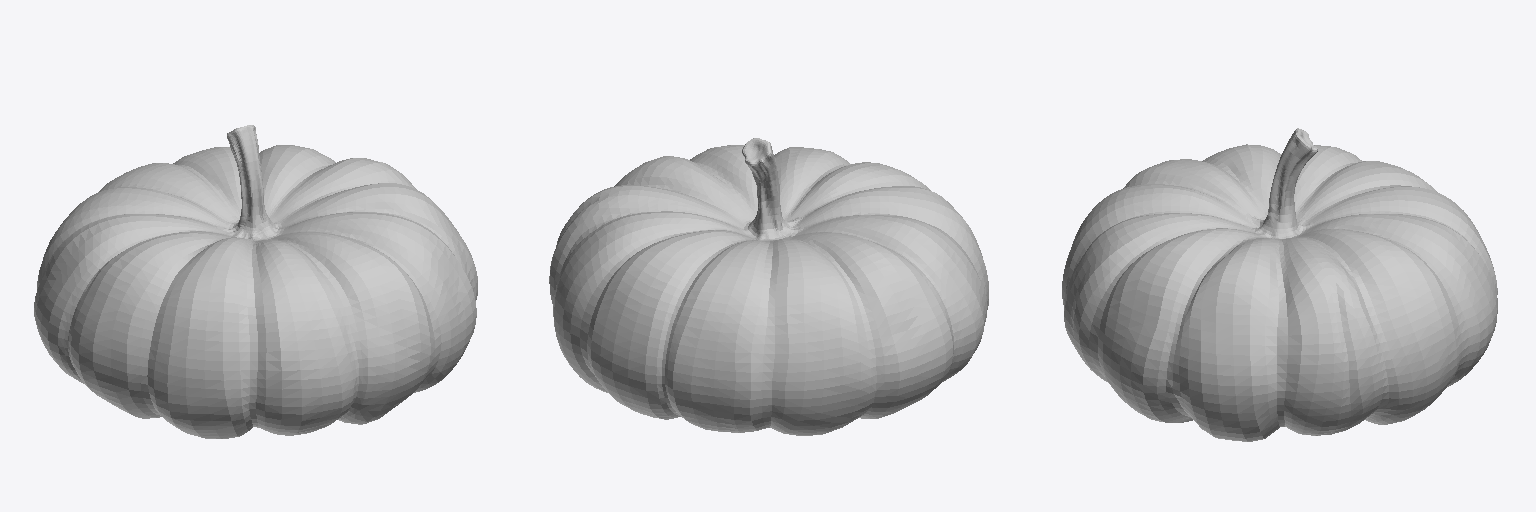
The model's file is pumpkin.obj.
The picture shows the model from 3 angles: view 1: azimuth 30°, elevation 25°; view 2: azimuth 150°, elevation 25°; view 3: azimuth 270°, elevation 25°; orthographic projection.
Visible parts, largest first — view 1: pumpkin_; view 2: pumpkin_; view 3: pumpkin_.
Part boxes in pixels (bbox=[...]): pumpkin_: bbox=[34, 125, 477, 438]; pumpkin_: bbox=[549, 138, 988, 435]; pumpkin_: bbox=[1062, 128, 1497, 441].
Size of the model in its own units: 204 by 125 by 200.